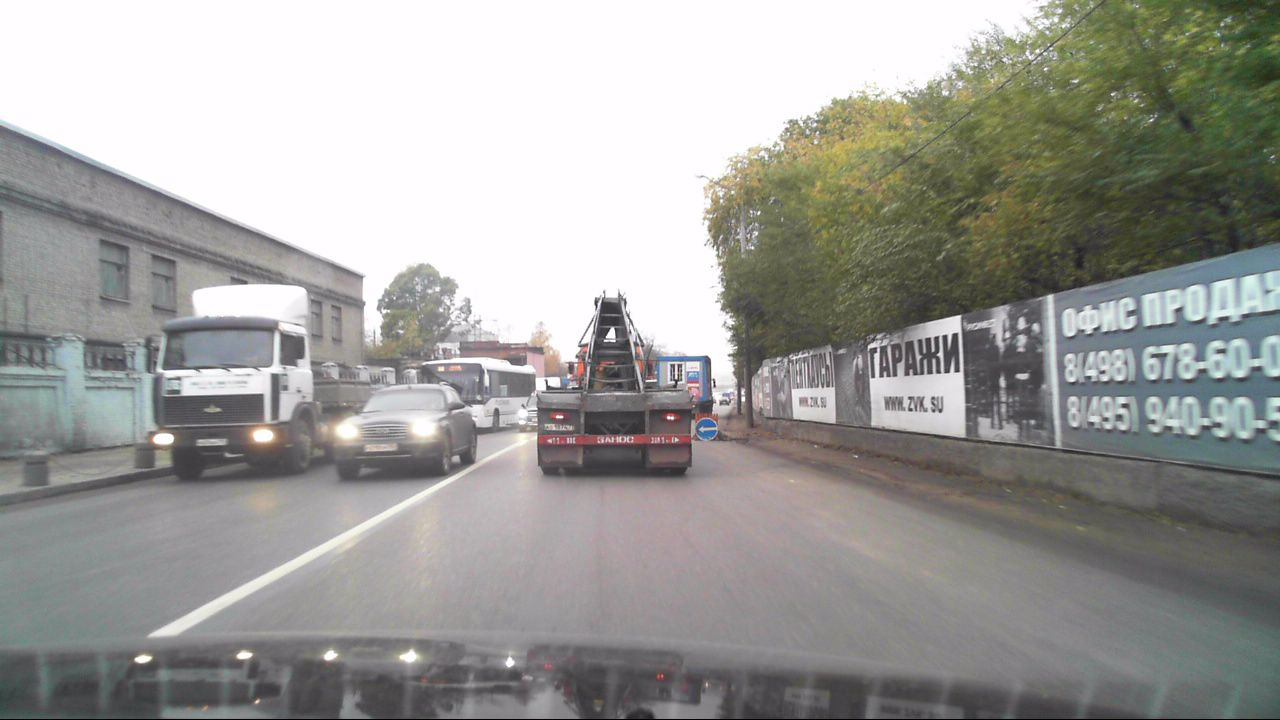Turn Left: (695, 418, 717, 440)
